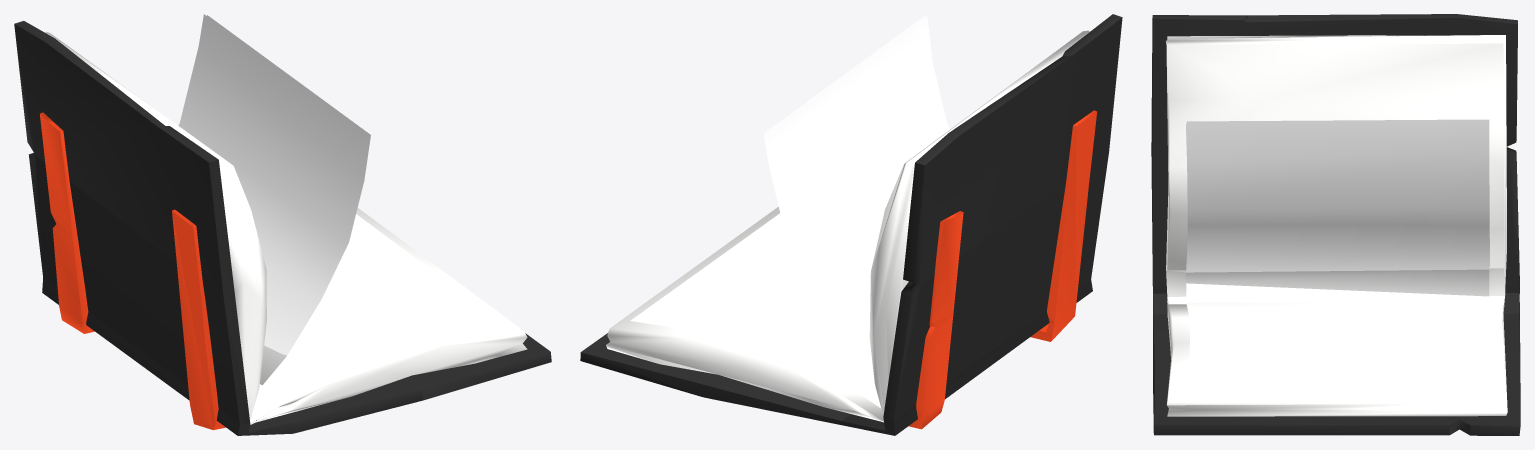
Rendered from CyberPunkGuestBookFlipping.003.glb.
3 renders of one model, left to right at view 1: azimuth 30°, elevation 25°; view 2: azimuth 150°, elevation 25°; view 3: azimuth 270°, elevation 25°, orthographic. The views are drawn at different scales.
Visible parts, largest first — view 1: CyberPunkGuestBookFlipping.003; view 2: CyberPunkGuestBookFlipping.003; view 3: CyberPunkGuestBookFlipping.003.
Boxes of the visible parts, box(x1,y1,x2,y2) form: CyberPunkGuestBookFlipping.003: box(14, 14, 551, 435); CyberPunkGuestBookFlipping.003: box(580, 14, 1122, 435); CyberPunkGuestBookFlipping.003: box(1151, 14, 1520, 435).
Size of what is drawn, in the model's own units: 0.3266 by 0.2728 by 0.3243.
Materials: 2 (2 with a texture image).
